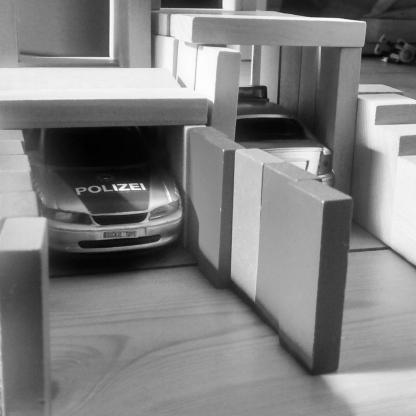Car: (25, 125, 185, 254), (235, 87, 336, 189)
